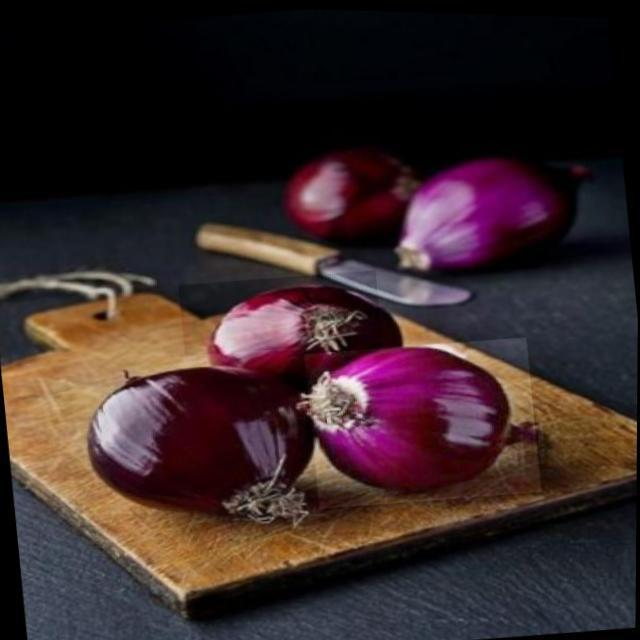Onion: (69, 340, 322, 548), (302, 328, 542, 512), (178, 263, 386, 381)
